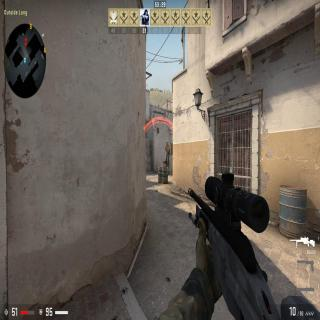T-Body: (164, 142, 170, 168)
T-Head: (166, 141, 169, 146)
